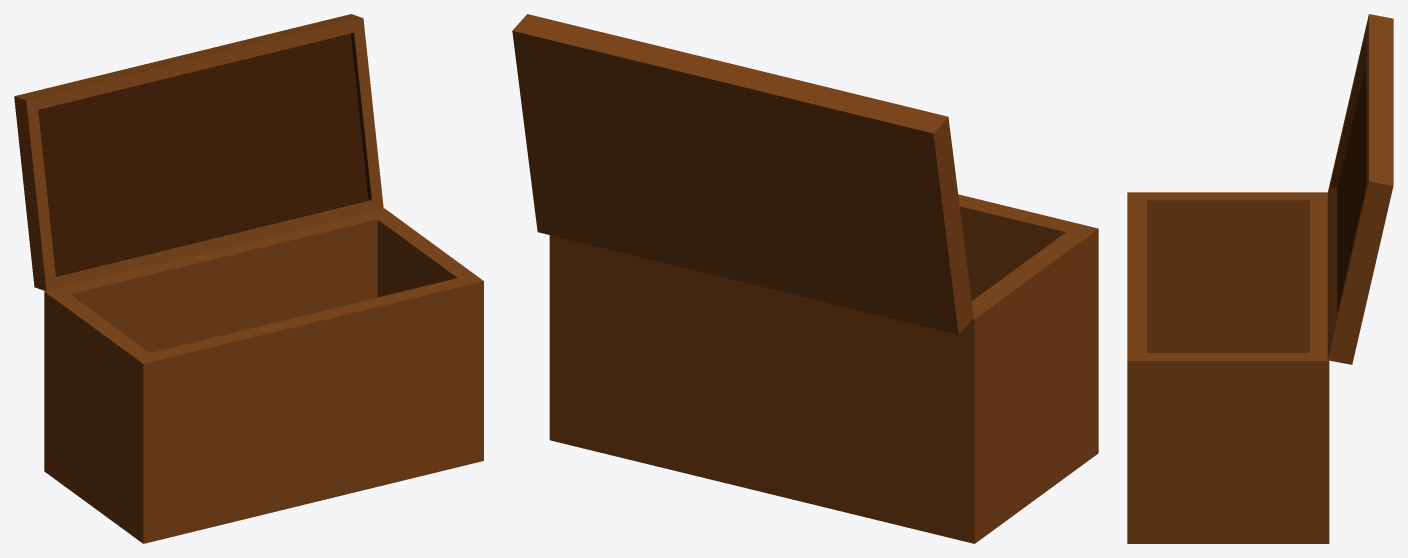
File: BallBox.fbx
3 views of the same model, side by side, from view 1: azimuth 30°, elevation 25°; view 2: azimuth 150°, elevation 25°; view 3: azimuth 270°, elevation 25° (orthographic). The views are drawn at different scales.
Visible parts, largest first — view 1: Cube; view 2: Cube; view 3: Cube.
Boxes of the visible parts, x1,y1,x2,y2 form: Cube: (14, 14, 483, 543); Cube: (512, 14, 1098, 543); Cube: (1127, 14, 1393, 543).
Bounding box in the file's own units: 396 × 396 × 264.
1 material, 1 textured.
